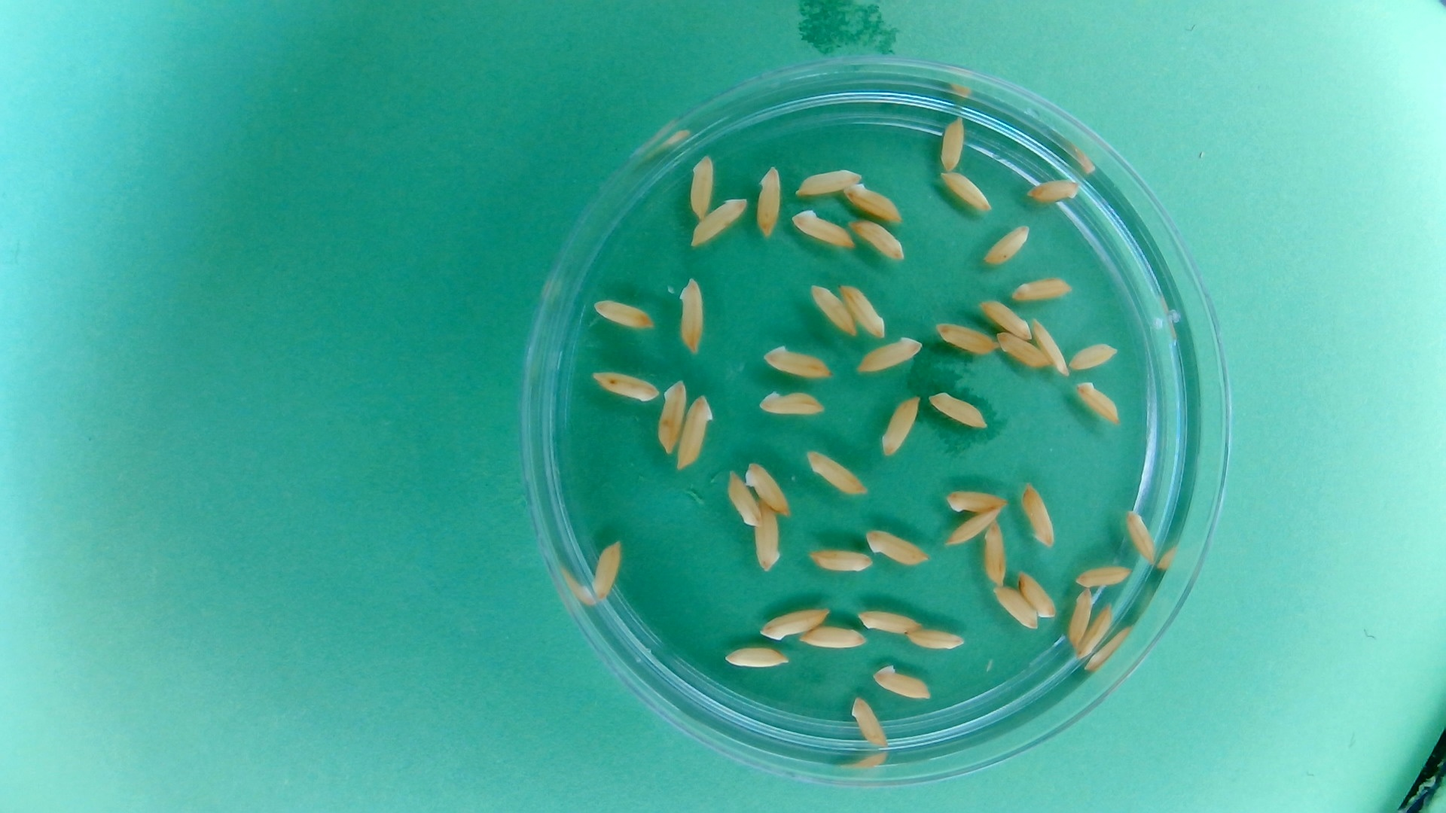no: (688, 194, 750, 250), (804, 447, 869, 498), (675, 394, 716, 471), (838, 279, 887, 340), (789, 207, 856, 251), (878, 392, 922, 457), (841, 179, 905, 223), (808, 282, 858, 338), (744, 458, 792, 516), (854, 334, 923, 374), (846, 217, 907, 262), (761, 343, 834, 380), (865, 526, 932, 566), (943, 506, 1008, 547), (926, 389, 990, 430), (758, 605, 830, 641), (587, 537, 625, 605), (654, 379, 688, 454), (1018, 480, 1056, 547), (939, 169, 994, 214), (978, 297, 1034, 341), (590, 369, 660, 404), (1073, 377, 1123, 426), (591, 294, 657, 331), (676, 276, 707, 354), (848, 694, 890, 751), (871, 662, 932, 701), (1030, 316, 1069, 376), (934, 320, 999, 356), (750, 501, 783, 571), (995, 330, 1050, 372), (990, 583, 1039, 630), (981, 222, 1031, 267), (1064, 584, 1098, 650), (793, 166, 863, 198), (755, 163, 785, 237), (1016, 568, 1058, 620), (725, 469, 762, 528), (686, 151, 717, 221), (756, 388, 827, 417), (1123, 507, 1158, 565), (938, 113, 969, 174), (1008, 274, 1073, 303), (798, 624, 868, 650), (981, 520, 1008, 586), (857, 608, 923, 635), (807, 547, 873, 574), (943, 487, 1008, 514), (1023, 175, 1083, 204), (723, 644, 789, 670), (1068, 341, 1121, 373), (1072, 562, 1134, 589), (905, 625, 966, 651), (1081, 606, 1109, 660)
